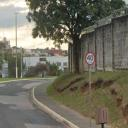speed_limit_40: (85, 52, 96, 66)
